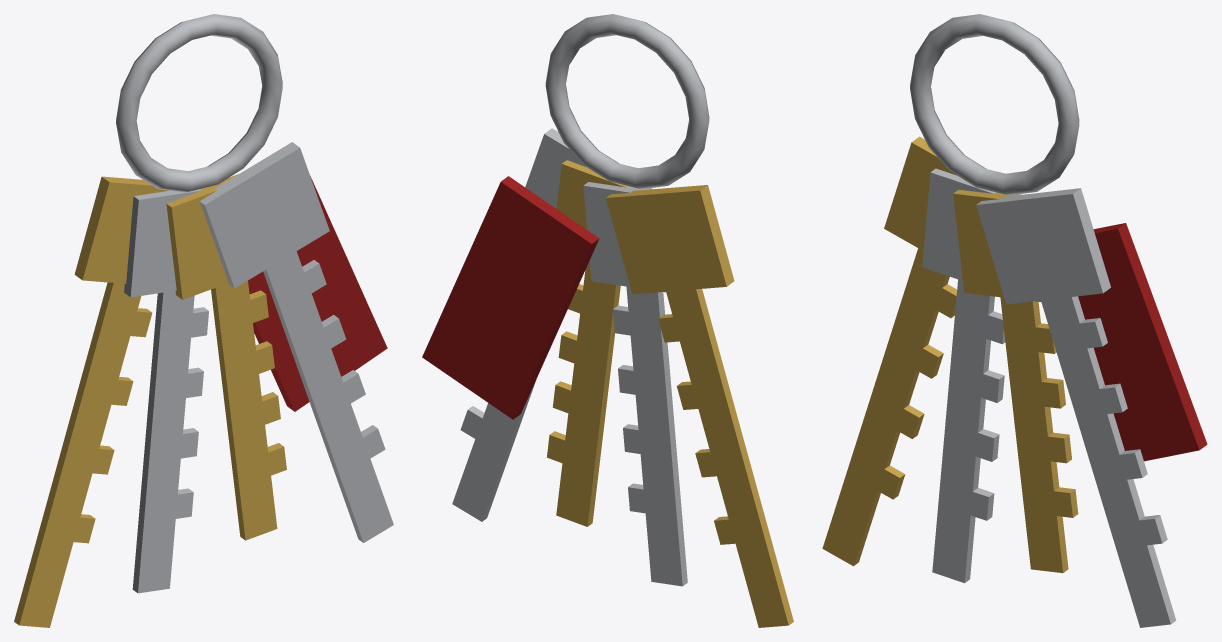
File: prop_keys.glb
The picture shows the model from 3 angles, left to right: view 1: azimuth 30°, elevation 25°; view 2: azimuth 150°, elevation 25°; view 3: azimuth 330°, elevation 25°; orthographic projection. The views are drawn at different scales.
Parts seen in each view (by area): view 1: prop_keys; view 2: prop_keys; view 3: prop_keys.
Boxes of the visible parts, x1,y1,x2,y2 form: prop_keys: (14,14,393,627); prop_keys: (422,14,793,627); prop_keys: (822,14,1207,627).
Size of the model in its own units: 0.0808 by 0.1209 by 0.01.
